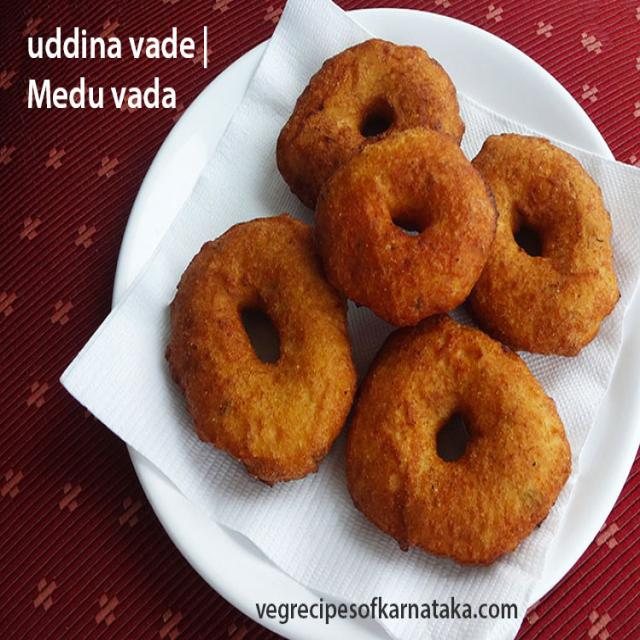MEDU VADA: (346, 316, 570, 563), (166, 215, 357, 484), (315, 128, 497, 326), (469, 134, 620, 356), (276, 39, 464, 207)
